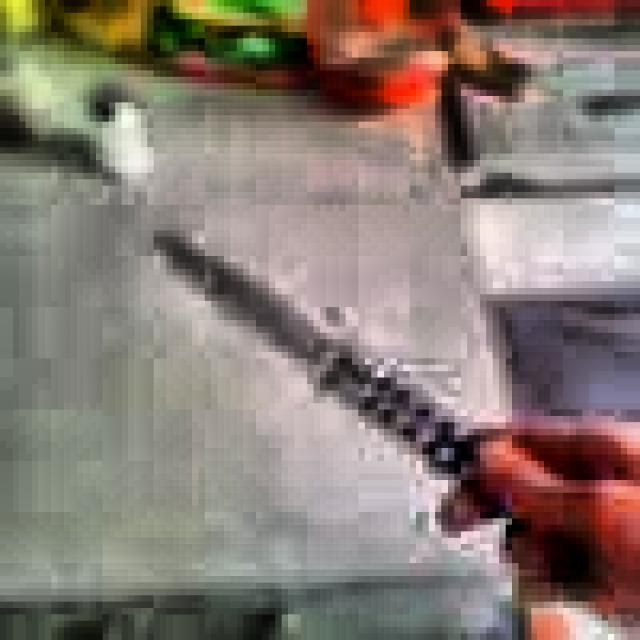knife: (165, 240, 484, 492)
